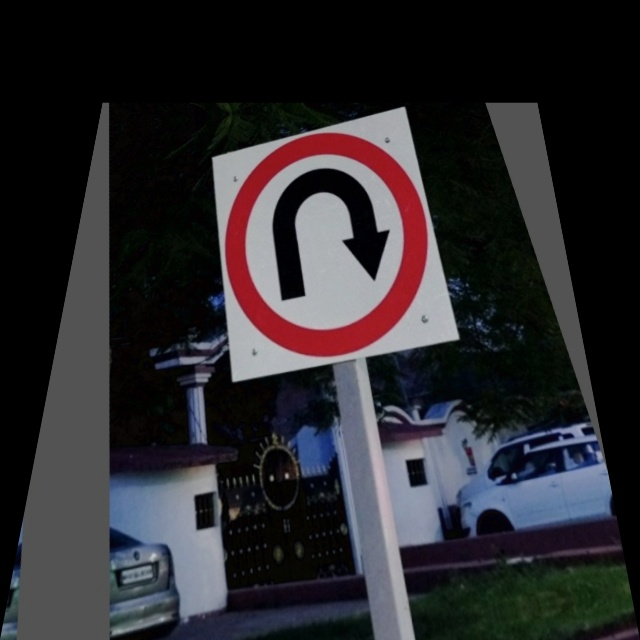U_Turn_Ahead: (187, 125, 461, 370)
